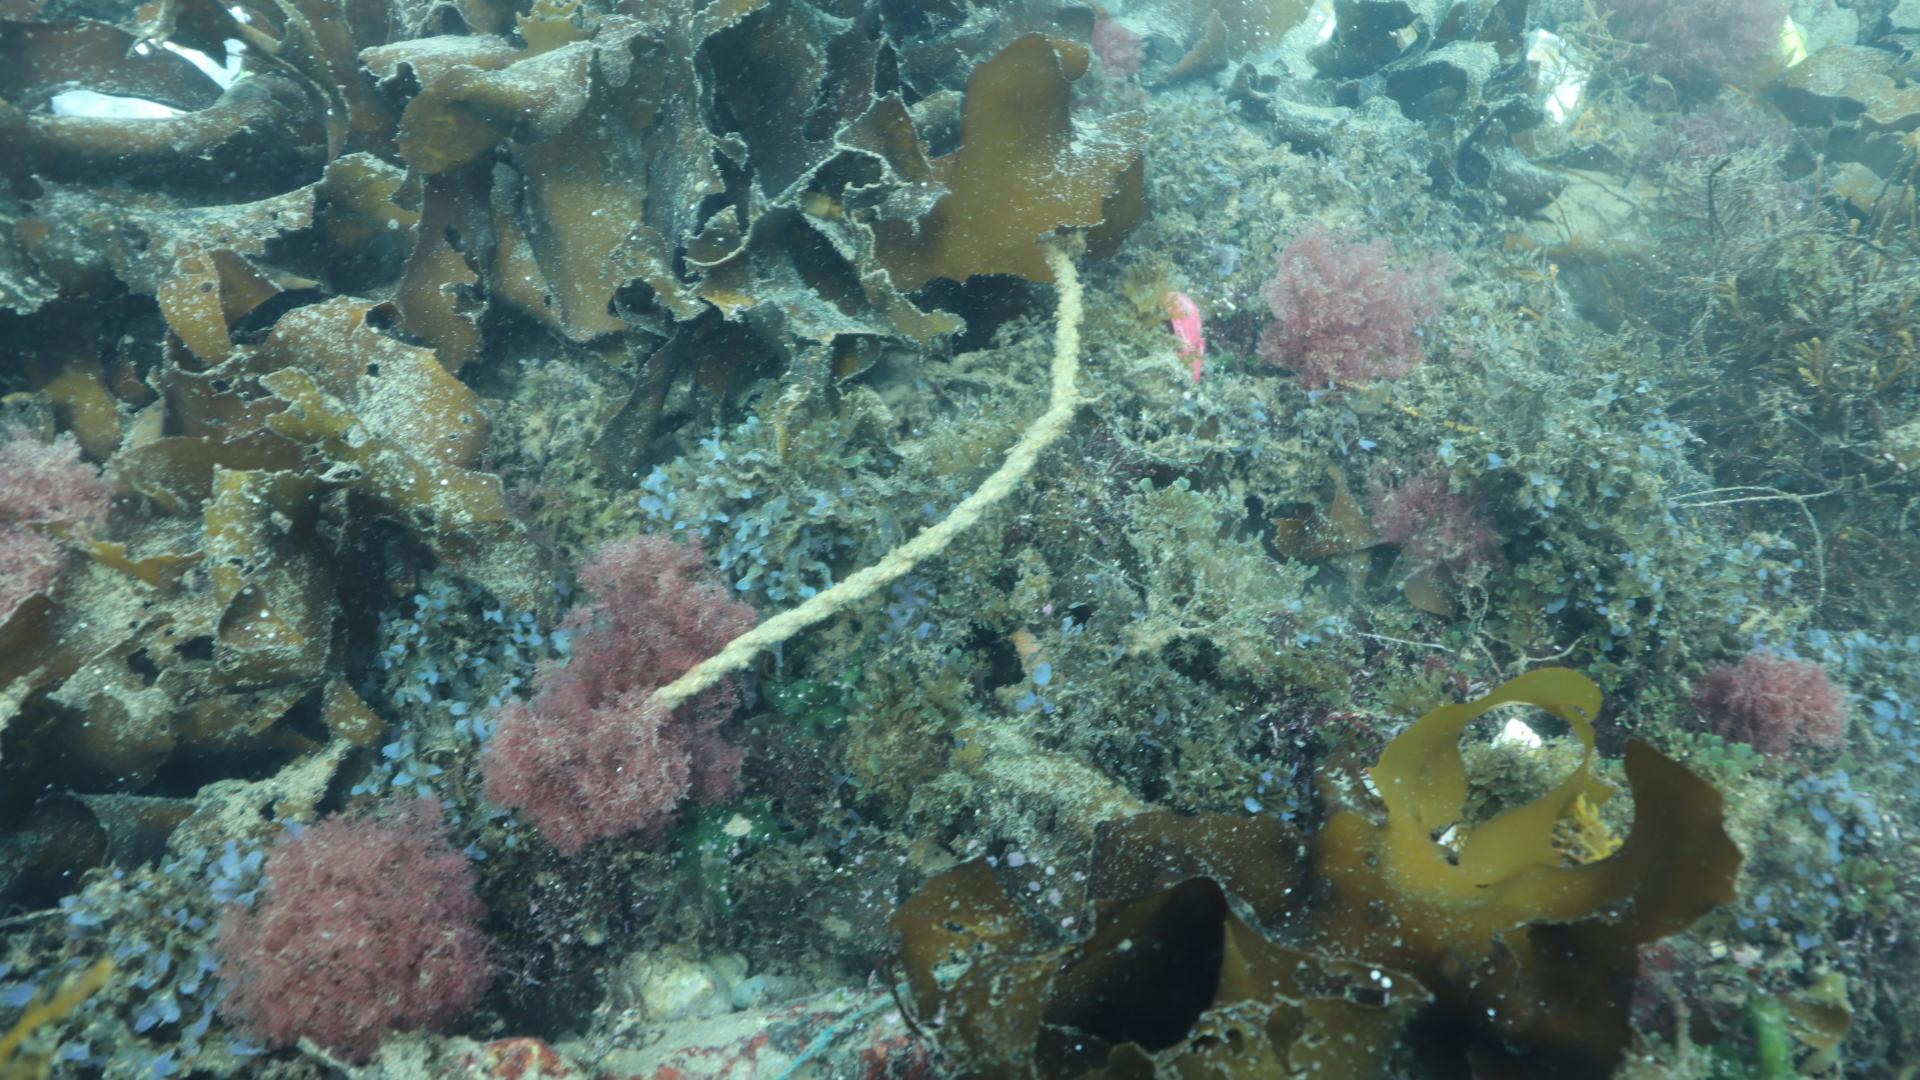rope: (651, 241, 1083, 712)
